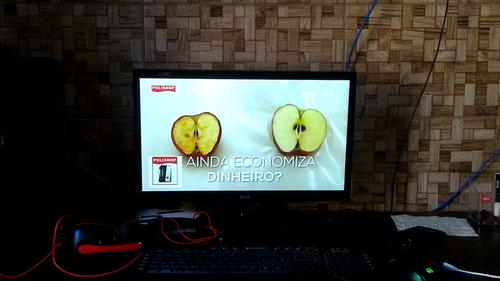Polishop #1: (148, 154, 182, 187)
